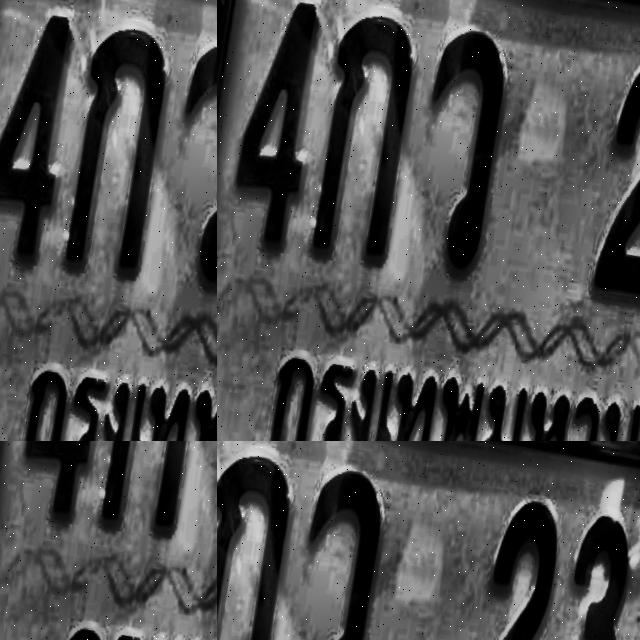license-plate: (217, 119, 640, 441), (0, 0, 217, 441), (217, 441, 640, 640)
